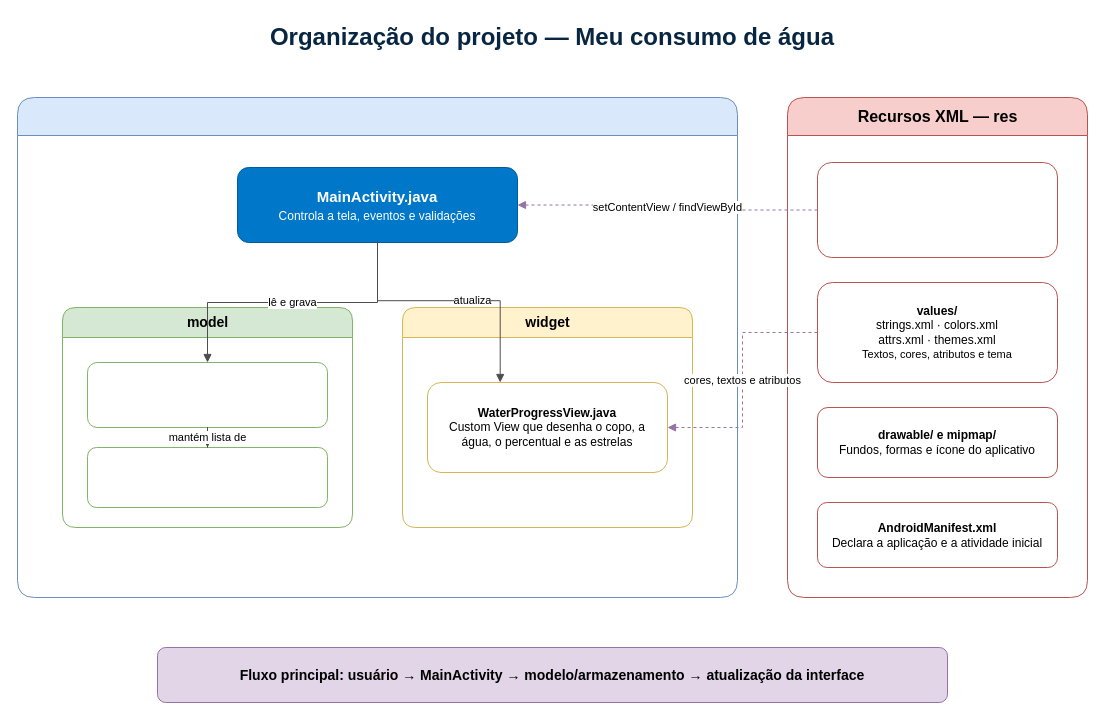
This 1105x720 diagram has some shape labels left out. Each missing label, with the box of its shape:
ConsumoStorage.java Salva e recupera dados com SharedPreferences: (86, 362, 328, 428)
Código Java: (16, 96, 738, 598)
layout/ activity_main.xml item_registro.xml Estrutura visual das telas: (816, 162, 1058, 258)
RegistroConsumo.java Representa horário e volume consumido: (86, 446, 328, 508)
